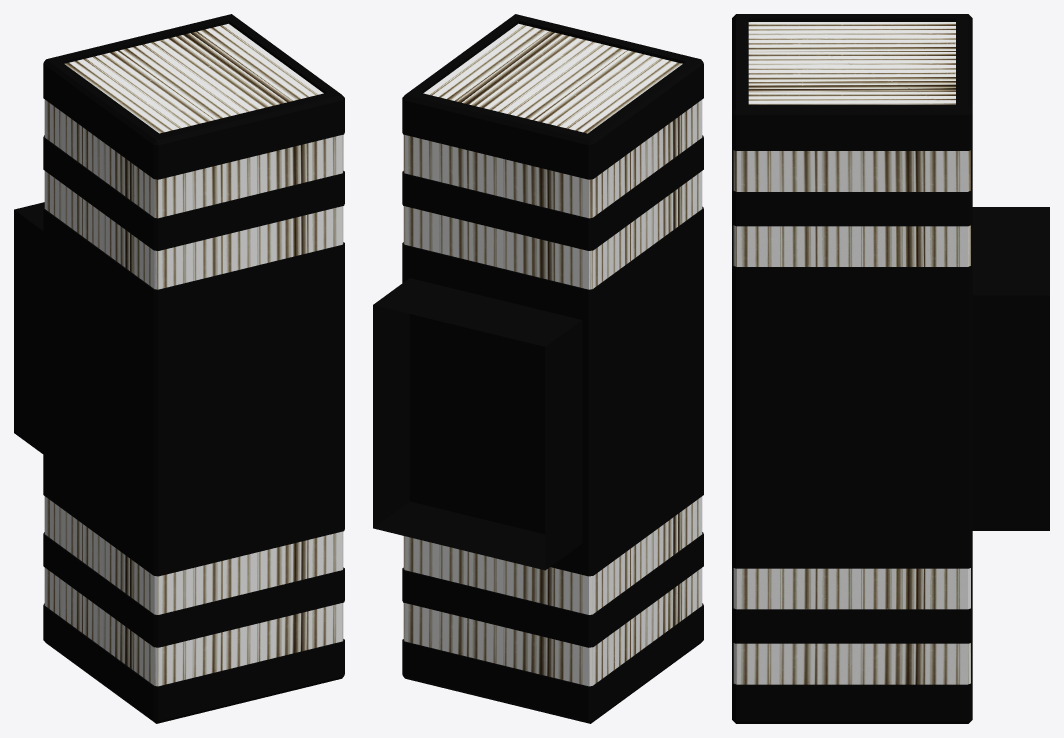
Rendered from SM_WallLight_005.FBX.
3 views of the same model, side by side, from view 1: azimuth 30°, elevation 25°; view 2: azimuth 150°, elevation 25°; view 3: azimuth 270°, elevation 25° (orthographic). The views are drawn at different scales.
Visible parts, largest first — view 1: SM_WallLight_005; view 2: SM_WallLight_005; view 3: SM_WallLight_005.
Part boxes in pixels (x1,y1,x2,y2): SM_WallLight_005: [14, 14, 344, 723]; SM_WallLight_005: [373, 14, 703, 723]; SM_WallLight_005: [732, 14, 1049, 723].
Size of the model in its own units: 11.12 by 15.2 by 32.43.
